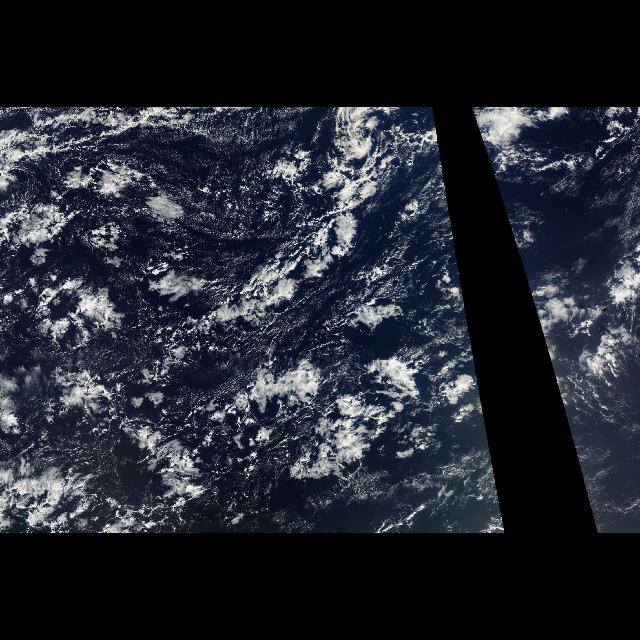Fish: (211, 358, 434, 484), (192, 174, 372, 330)
Gravel: (78, 141, 446, 503)
Sugar: (415, 428, 505, 528), (568, 428, 628, 528)
